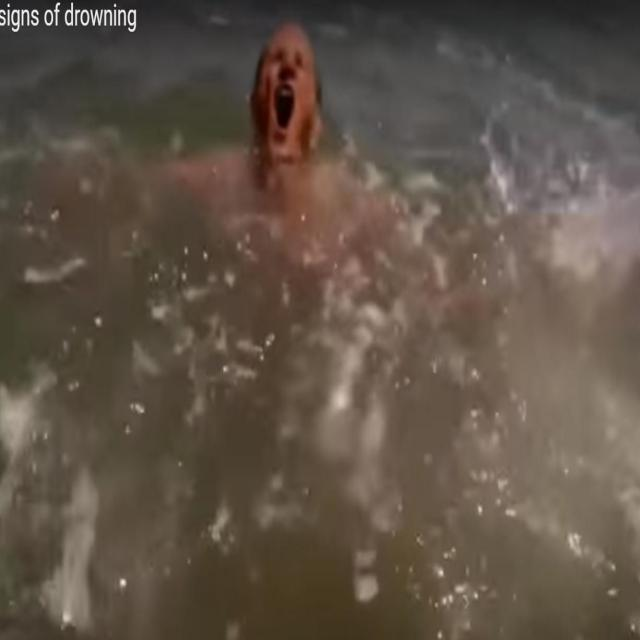Out of Water: (230, 7, 350, 190)
